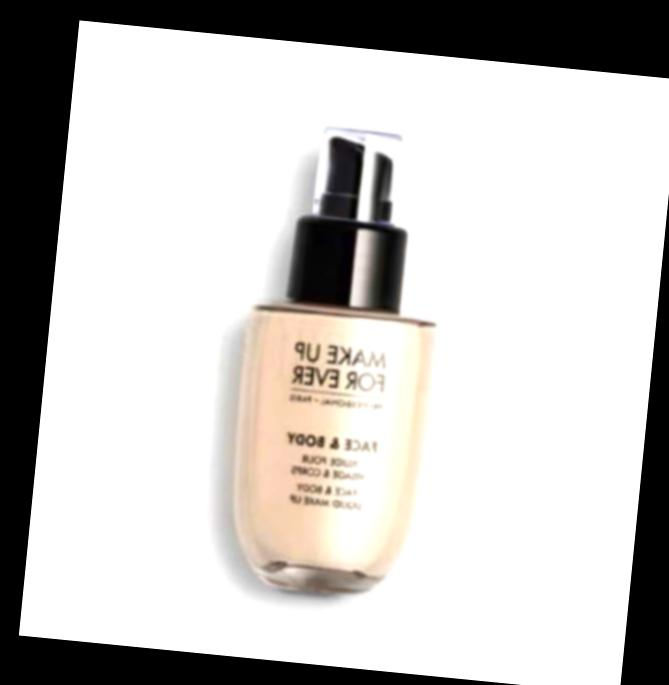cosmetic: (218, 118, 456, 605)
